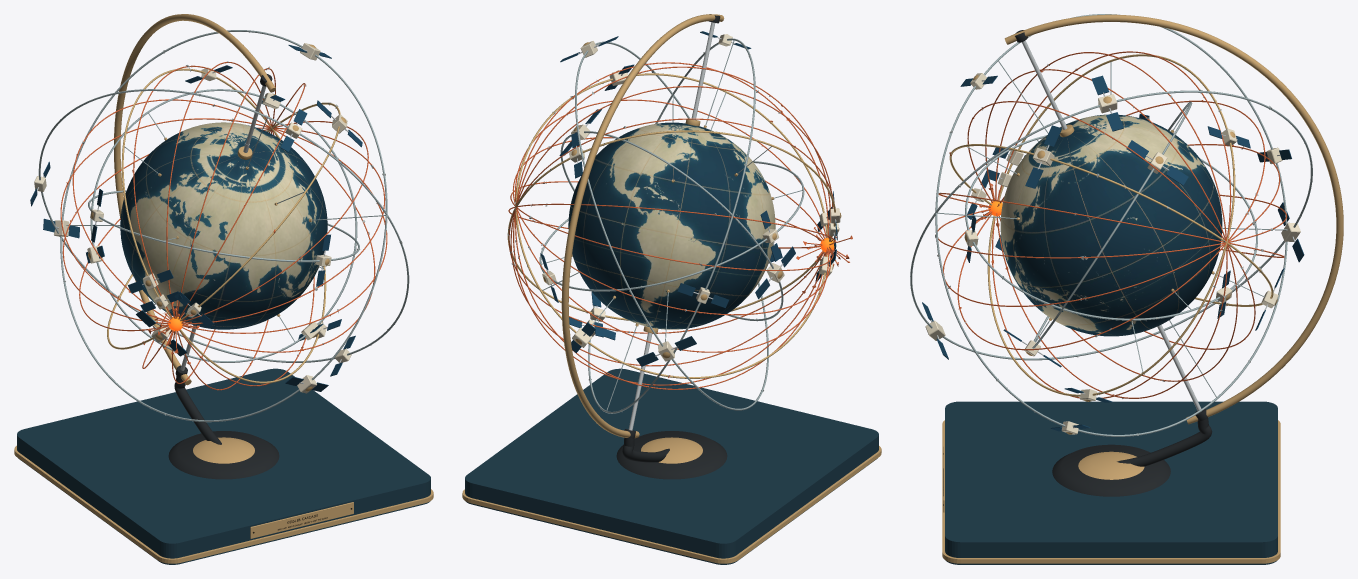
File: kessler.glb
3 views of the same model, side by side, from view 1: azimuth 30°, elevation 25°; view 2: azimuth 150°, elevation 25°; view 3: azimuth 270°, elevation 25° (orthographic). The views are drawn at different scales.
Parts seen in each view (by area): view 1: M_enamel_blue, mover_globe_mesh, M_brass, M_fragment_wire, M_wire_steel, M_alu_dark, M_sat_panel, M_sat_cream, M_wire_brass, M_steel; view 2: M_enamel_blue, mover_globe_mesh, M_fragment_wire, M_brass, M_wire_steel, M_wire_brass, M_alu_dark, M_sat_panel, M_sat_cream, M_steel; view 3: M_enamel_blue, mover_globe_mesh, M_brass, M_fragment_wire, M_wire_steel, M_alu_dark, M_sat_panel, M_wire_brass, M_sat_cream, M_steel.
Part boxes in pixels (bbox=[...]): M_enamel_blue: bbox=[17, 368, 430, 564]; mover_globe_mesh: bbox=[120, 122, 327, 329]; M_brass: bbox=[14, 14, 433, 563]; M_fragment_wire: bbox=[60, 62, 387, 390]; M_wire_steel: bbox=[38, 30, 409, 422]; M_alu_dark: bbox=[168, 74, 279, 479]; M_sat_panel: bbox=[30, 45, 362, 391]; M_sat_cream: bbox=[34, 43, 351, 393]; M_wire_brass: bbox=[107, 68, 340, 383]; M_steel: bbox=[37, 49, 348, 383]; M_enamel_blue: bbox=[465, 368, 878, 564]; mover_globe_mesh: bbox=[568, 122, 775, 329]; M_fragment_wire: bbox=[508, 62, 850, 389]; M_brass: bbox=[462, 14, 881, 563]; M_wire_steel: bbox=[539, 38, 804, 413]; M_wire_brass: bbox=[507, 73, 835, 378]; M_alu_dark: bbox=[616, 14, 727, 479]; M_sat_panel: bbox=[540, 31, 837, 366]; M_sat_cream: bbox=[542, 34, 840, 361]; M_steel: bbox=[546, 22, 836, 430]; M_enamel_blue: bbox=[945, 401, 1277, 564]; mover_globe_mesh: bbox=[1000, 114, 1222, 336]; M_brass: bbox=[931, 14, 1343, 563]; M_fragment_wire: bbox=[937, 51, 1287, 398]; M_wire_steel: bbox=[910, 14, 1312, 436]; M_alu_dark: bbox=[1015, 30, 1212, 496]; M_sat_panel: bbox=[922, 75, 1304, 431]; M_wire_brass: bbox=[949, 54, 1273, 396]; M_sat_cream: bbox=[925, 73, 1300, 434]; M_steel: bbox=[931, 40, 1295, 428].
Size of the model in its own units: 0.3169 by 0.4768 by 0.3909.
Materials: 14 (1 with a texture image).
